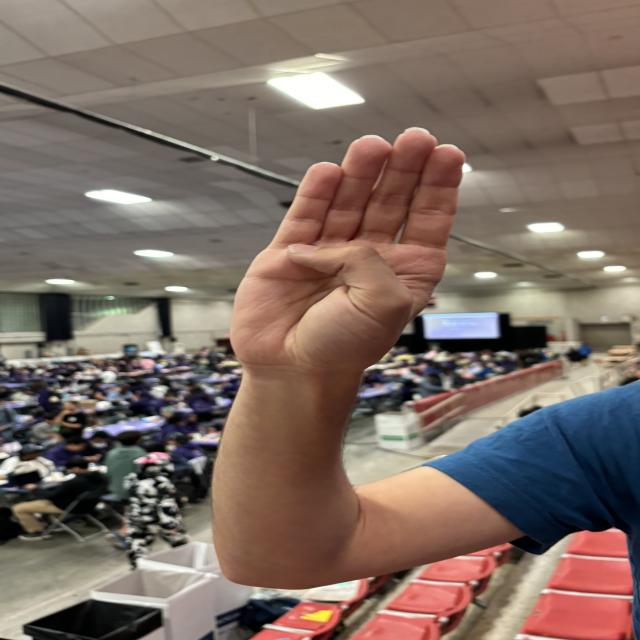B: (220, 121, 481, 388)
